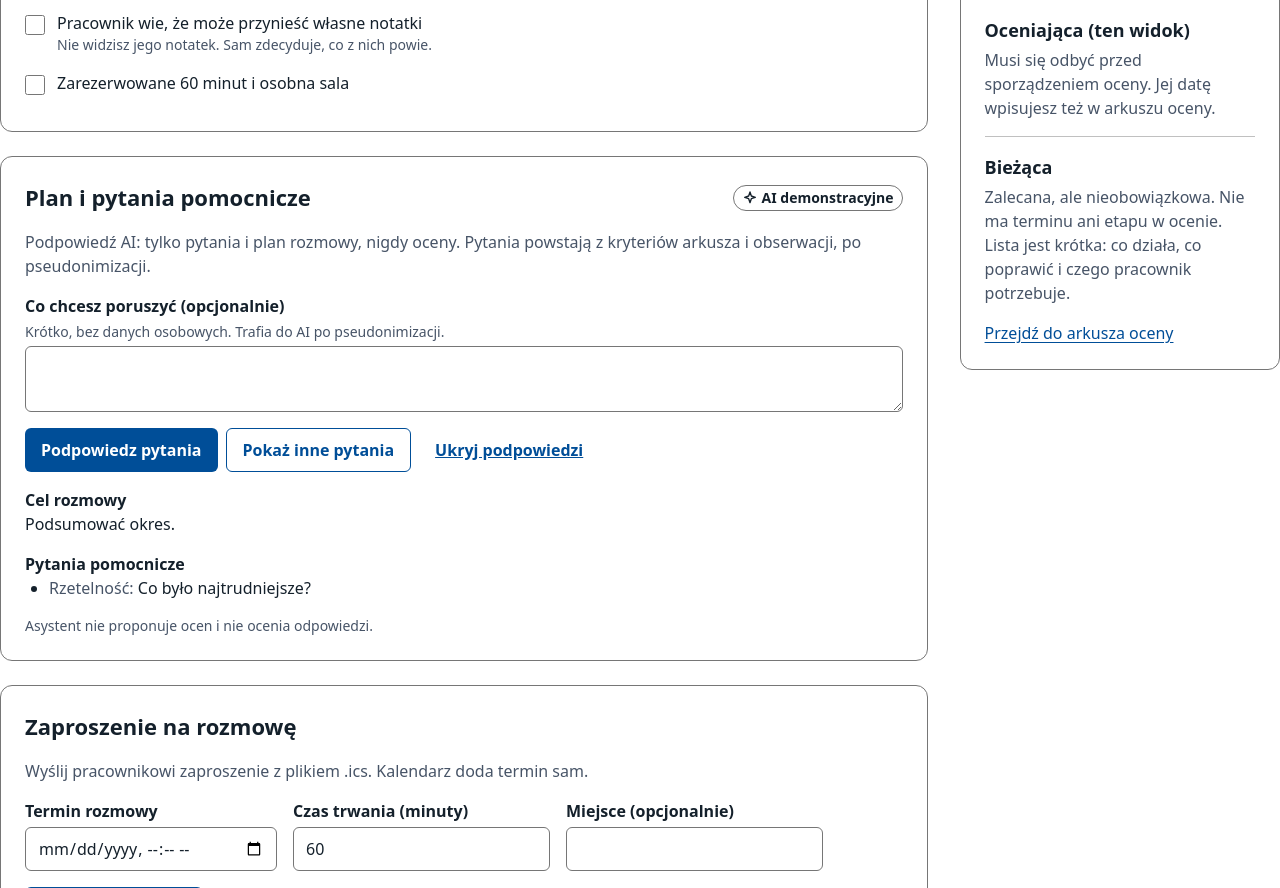
Scenario: ConversationPage › lists the stored plan and hides the hints on request
(page scrolled)
Expected: the list item "Co było najtrudniejsze?" is shown, [138,577,311,599]
Click the button "Ukryj podpowiedzi".
click(509, 450)  # box [419,428,599,472]
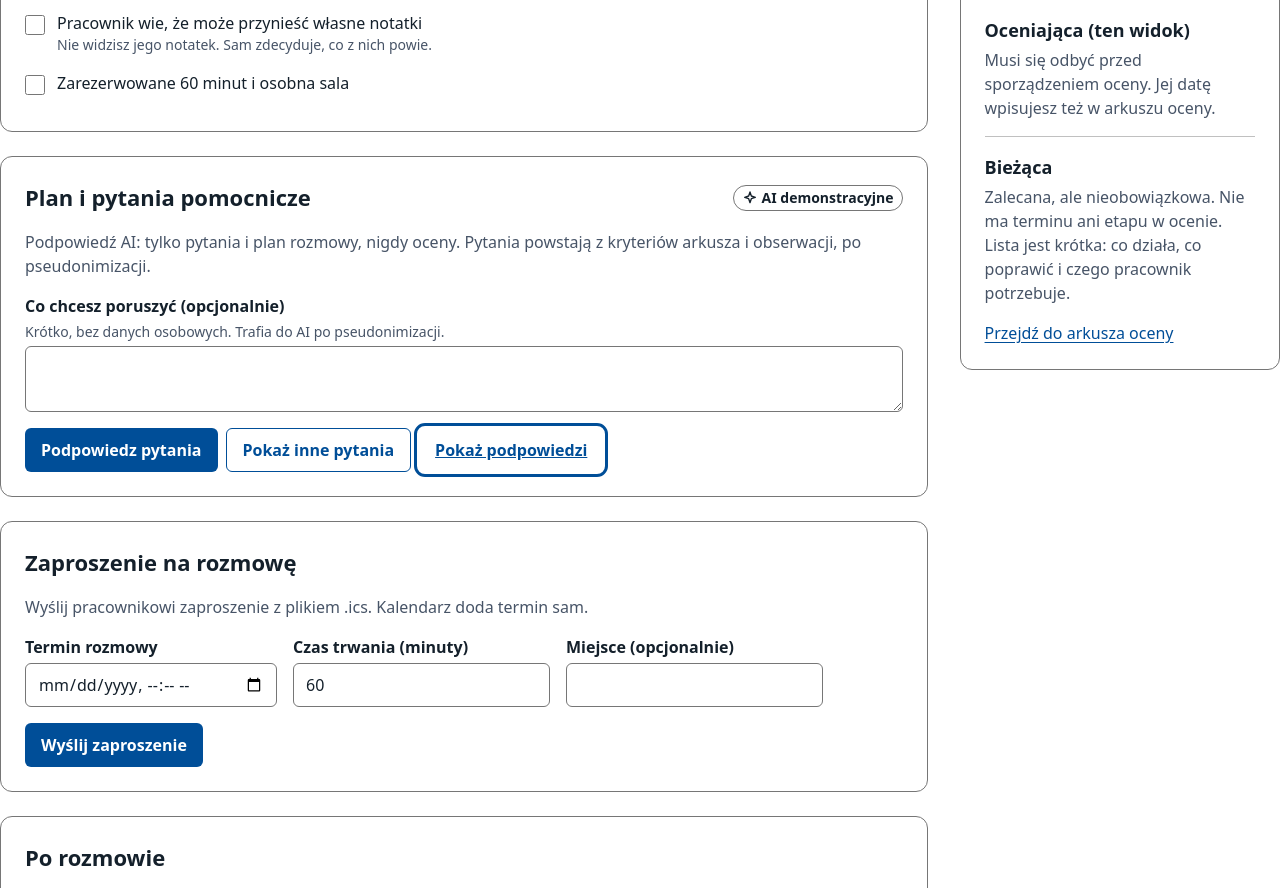
Expected: the list item "Co było najtrudniejsze?" is gone
Expected: the button "Pokaż podpowiedzi" is shown, [419,428,603,472]
